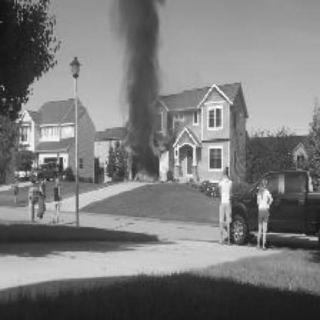Fire: (112, 129, 168, 170)
Smoke: (122, 0, 166, 136)
other: (255, 186, 279, 226)
